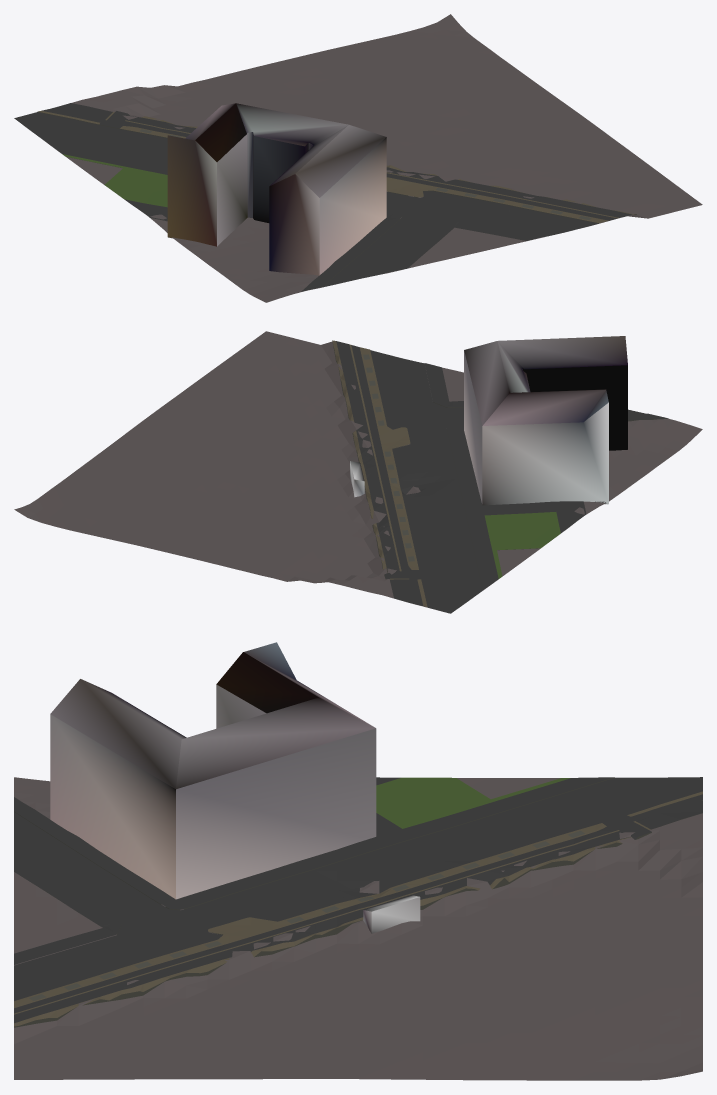
3 views of the same model, one above another, from view 1: azimuth 30°, elevation 25°; view 2: azimuth 150°, elevation 25°; view 3: azimuth 270°, elevation 25° (orthographic). The views are drawn at different scales.
Parts seen in each view (by area): view 1: c_m13_m15; view 2: c_m13_m15; view 3: c_m13_m15.
Part boxes in pixels (<box>): c_m13_m15: <box>14,14,702,302</box>; c_m13_m15: <box>14,331,702,613</box>; c_m13_m15: <box>14,642,702,1080</box>.
Bounding box in the file's own units: 129 × 30.19 × 128.
